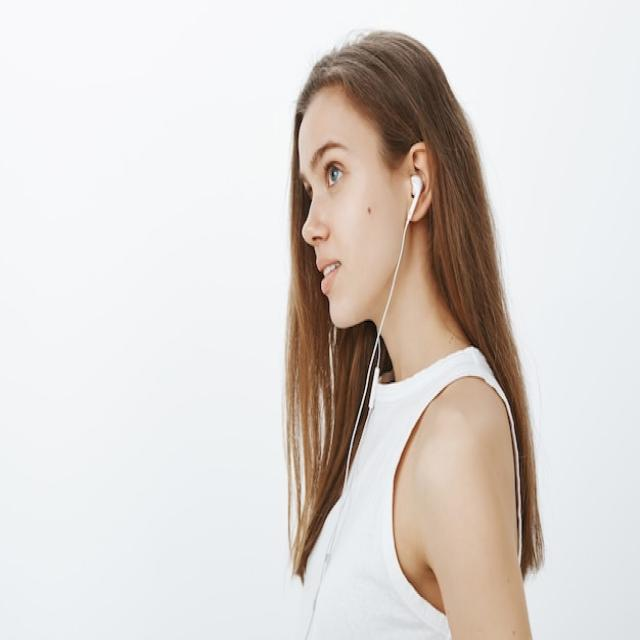Earphone: (302, 175, 424, 634)
